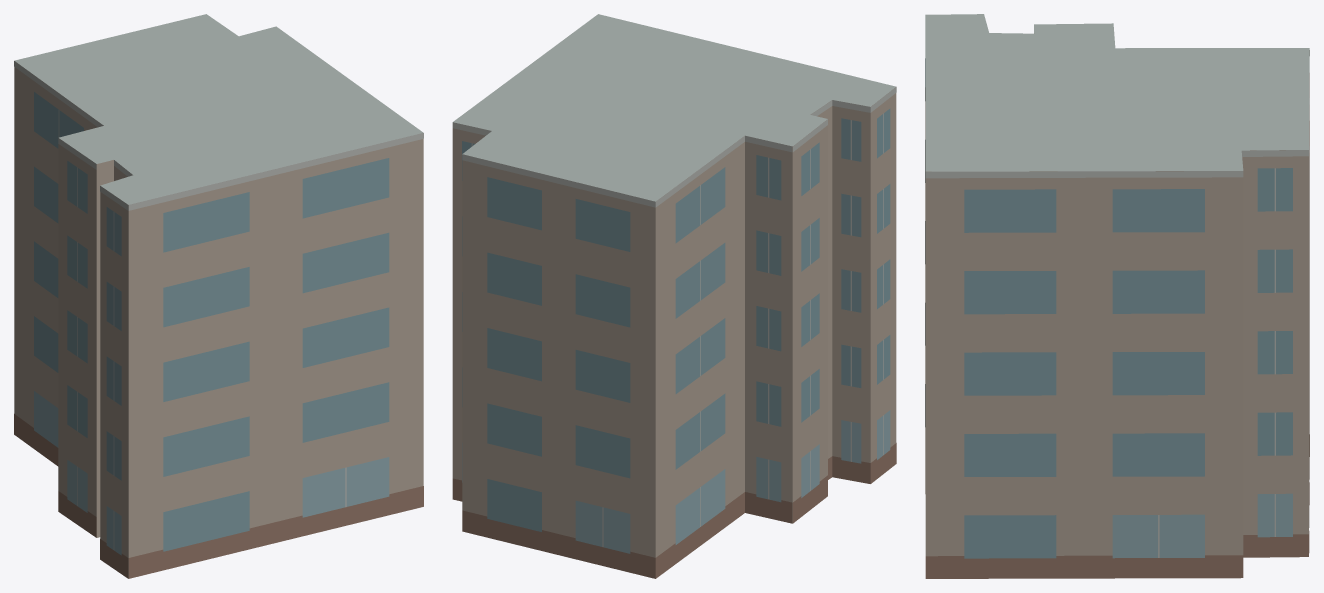
The model's file is survey-upis-32904528.glb.
3 views of the same model, side by side, from view 1: azimuth 30°, elevation 25°; view 2: azimuth 150°, elevation 25°; view 3: azimuth 270°, elevation 25° (orthographic). The views are drawn at different scales.
Parts seen in each view (by area): view 1: survey-upis-32904528.tmp; view 2: survey-upis-32904528.tmp; view 3: survey-upis-32904528.tmp.
Part boxes in pixels (<box>): survey-upis-32904528.tmp: <box>14,14,423,578</box>; survey-upis-32904528.tmp: <box>452,14,896,578</box>; survey-upis-32904528.tmp: <box>925,14,1309,578</box>.
Size of the model in its own units: 12.68 by 15.25 by 13.06.
